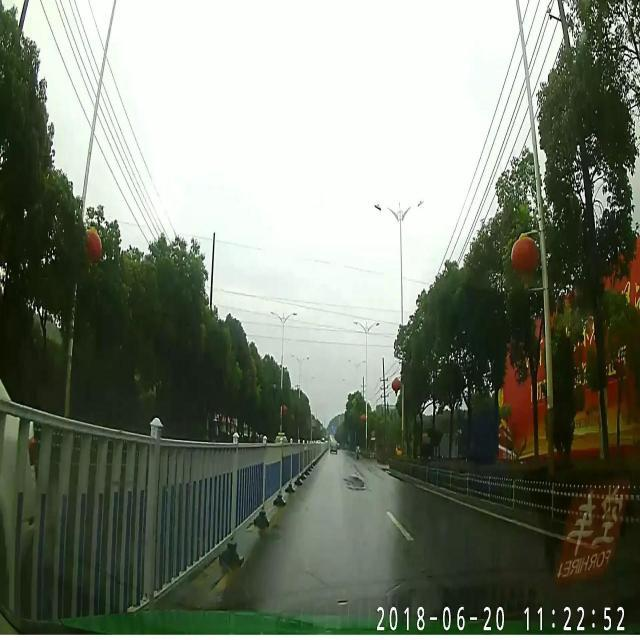car: (328, 436, 338, 456)
